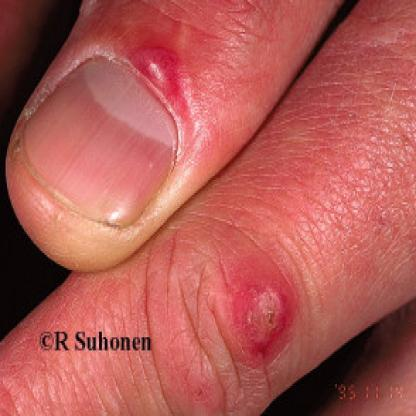Warts: (236, 271, 290, 358)
